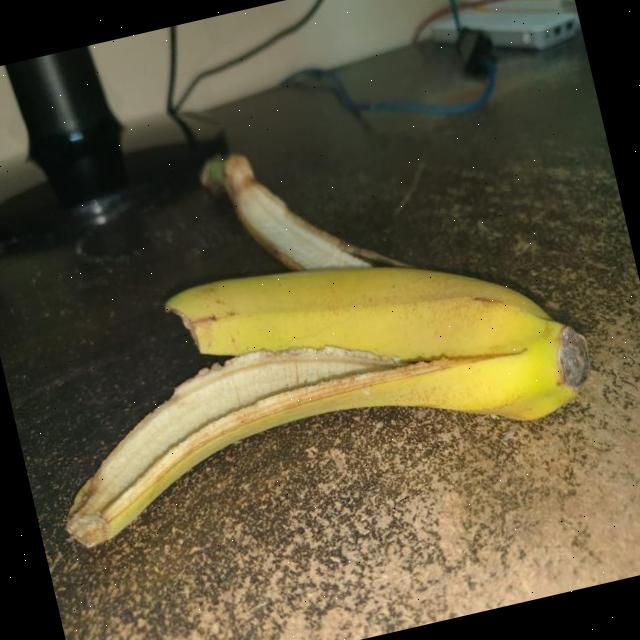banana-peel: (0, 83, 607, 553)
